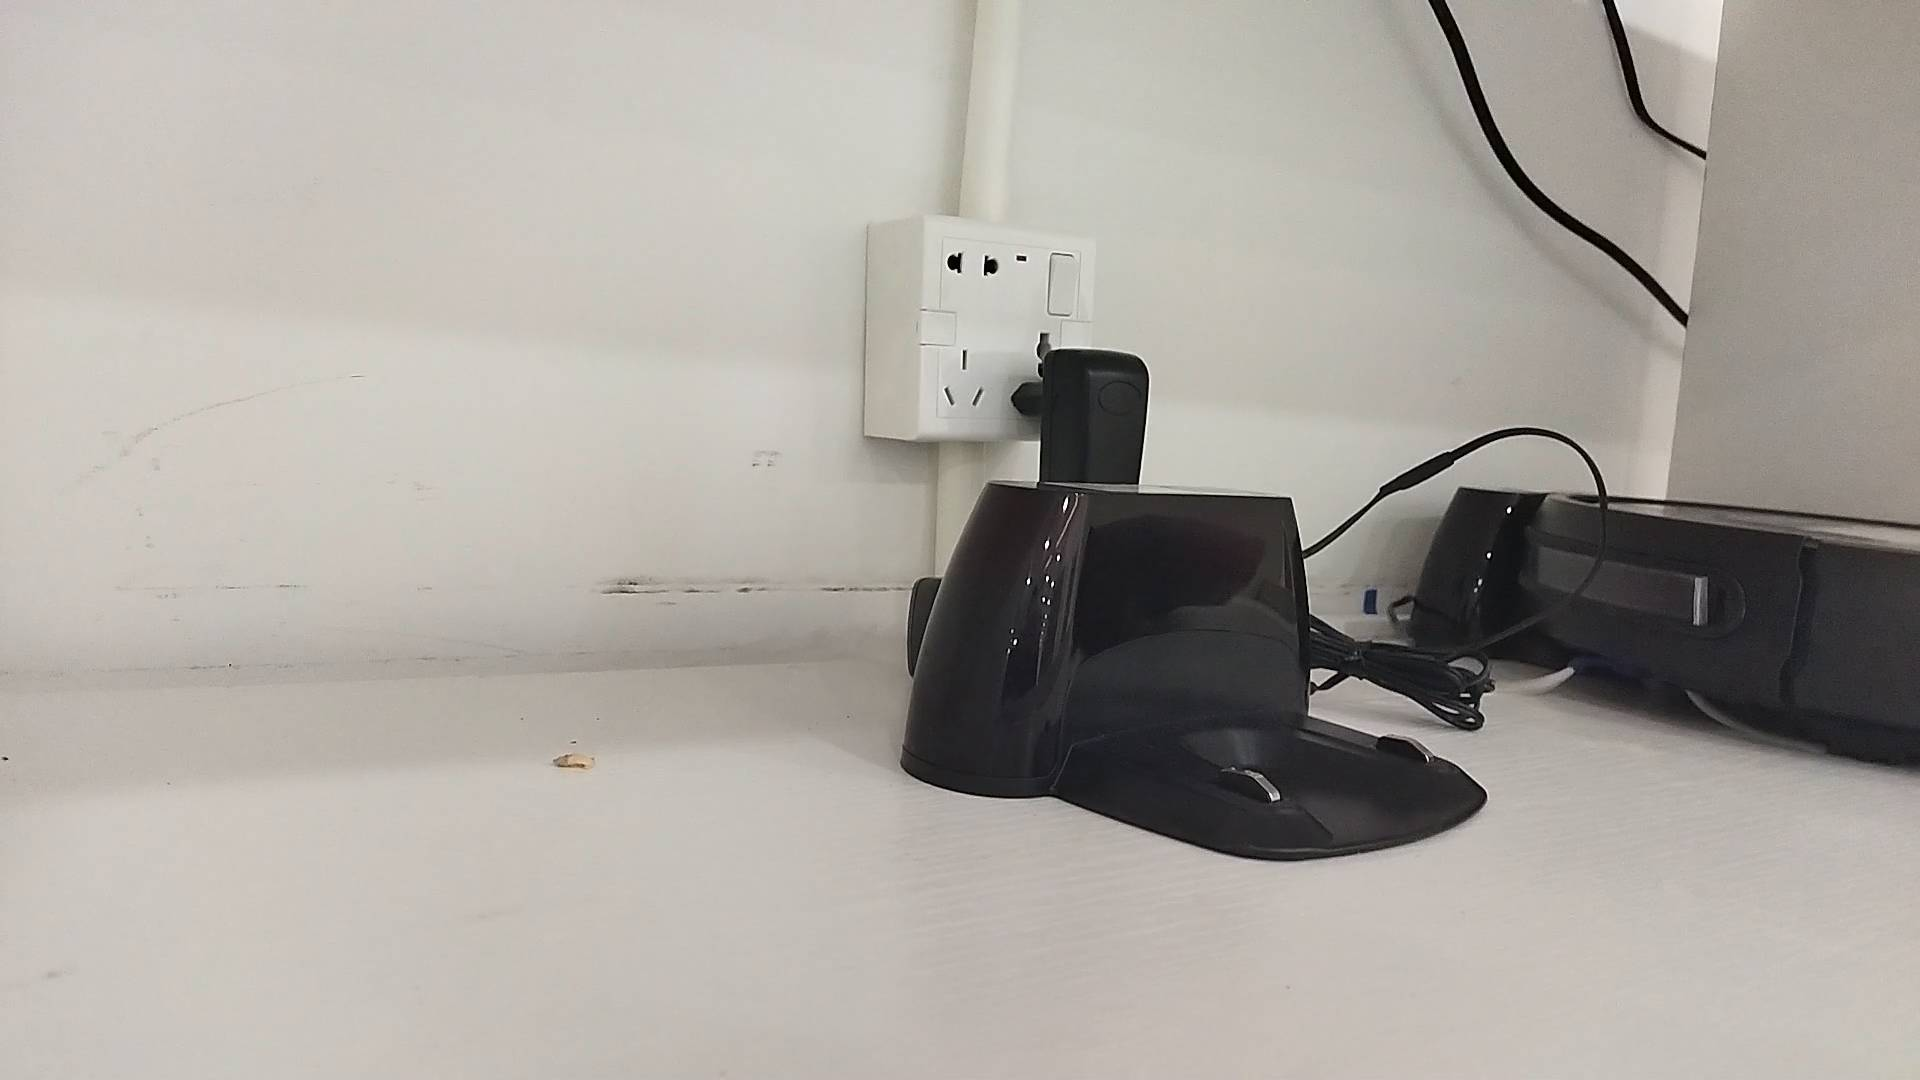recharge seat: (901, 481, 1487, 861)
